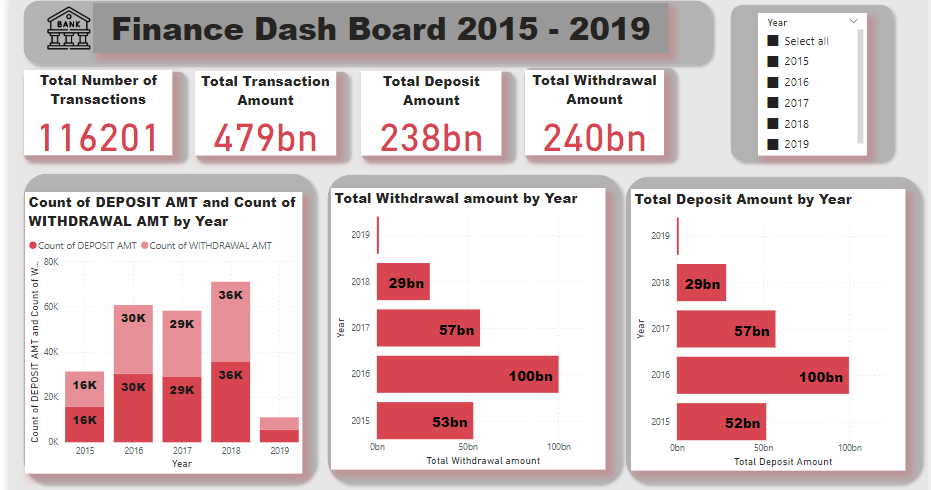

The dashboard page shown, as its layout file describes it:
{"tool":"powerbi","page":{"name":"Page 1","canvas":[1280,720],"ordinal":0},"visuals":[{"type":"shape","box":[996.2,6,244.8,236.4],"z":0},{"type":"shape","box":[9.6,0,978.6,107.1],"z":1000},{"type":"shape","box":[9.6,98.8,244.3,142.7],"z":2000},{"type":"shape","box":[481.8,98.8,230.6,142.7],"z":3000},{"type":"shape","box":[708.2,93.3,229.2,148.2],"z":4000},{"type":"shape","box":[9.6,241.6,425.5,450.2],"z":5000},{"type":"textbox","box":[115.3,12.4,802.9,70],"z":6000},{"type":"image","box":[31.6,12.4,100.2,70],"z":7000},{"type":"card","title":"Total Number of Transactions","fields":{"Values":["New Measurements.Total Number of Transactions"]},"box":[19.3,106.1,207.4,119.4],"z":8000},{"type":"card","title":"Total Withdrawal Amount","fields":{"Values":["New Measurements.Total Withdrawal amount"]},"box":[718.8,106.1,194.2,119.4],"z":9000},{"type":"card","title":"Total Deposit Amount","fields":{"Values":["New Measurements.Total Deposit Amount"]},"box":[490,107.1,196.3,118],"z":10000},{"type":"slicer","fields":{"Values":["Sheet1.DATE.Variation.Date Hierarchy.Year"]},"box":[1043.2,26.5,152,199],"z":11000},{"type":"columnChart","fields":{"Category":["Sheet1.DATE.Variation.Date Hierarchy.Year"],"Y":["CountNonNull(Sheet1.DEPOSIT AMT)","CountNonNull(Sheet1.WITHDRAWAL AMT)"]},"box":[20.6,275.9,387,392.5],"z":12000},{"type":"shape","box":[249.8,98.8,232,142.7],"z":13000},{"type":"card","title":"Total Transaction Amount","fields":{"Values":["Sum(Sheet1.total tans amt)"]},"box":[258.1,107.3,196.6,118.2],"z":14000},{"type":"shape","box":[433.7,242.9,428.2,448.8],"z":15000},{"type":"shape","box":[849.6,245.7,431,446.1],"z":16000},{"type":"clusteredBarChart","fields":{"Y":["New Measurements.Total Withdrawal amount"],"Category":["Sheet1.DATE.Variation.Date Hierarchy.Year"]},"box":[447.4,270.4,382.9,392.5],"z":17000},{"type":"clusteredBarChart","fields":{"Y":["New Measurements.Total Deposit Amount"],"Category":["Sheet1.DATE.Variation.Date Hierarchy.Year"]},"box":[866.1,271.8,382.9,392.5],"z":18000}]}

Visuals, with their boxes on the page's 1280x720 design canvas (x1, y1, x2, y2). These are canvas units, not pixel positions in the 931x490 screenshot, which may show the page scaled, cropped or inside an application window:
shape: {"x1": 996, "y1": 6, "x2": 1241, "y2": 242}
shape: {"x1": 10, "y1": 0, "x2": 988, "y2": 107}
shape: {"x1": 10, "y1": 99, "x2": 254, "y2": 242}
shape: {"x1": 482, "y1": 99, "x2": 712, "y2": 242}
shape: {"x1": 708, "y1": 93, "x2": 937, "y2": 242}
shape: {"x1": 10, "y1": 242, "x2": 435, "y2": 692}
textbox: {"x1": 115, "y1": 12, "x2": 918, "y2": 82}
image: {"x1": 32, "y1": 12, "x2": 132, "y2": 82}
"Total Number of Transactions" card: {"x1": 19, "y1": 106, "x2": 227, "y2": 226}
"Total Withdrawal Amount" card: {"x1": 719, "y1": 106, "x2": 913, "y2": 226}
"Total Deposit Amount" card: {"x1": 490, "y1": 107, "x2": 686, "y2": 225}
slicer - Sheet1.DATE.Variation.Date Hierarchy.Year: {"x1": 1043, "y1": 26, "x2": 1195, "y2": 226}
columnChart - Sheet1.DATE.Variation.Date Hierarchy.Year x CountNonNull(Sheet1.DEPOSIT AMT): {"x1": 21, "y1": 276, "x2": 408, "y2": 668}
shape: {"x1": 250, "y1": 99, "x2": 482, "y2": 242}
"Total Transaction Amount" card: {"x1": 258, "y1": 107, "x2": 455, "y2": 226}
shape: {"x1": 434, "y1": 243, "x2": 862, "y2": 692}
shape: {"x1": 850, "y1": 246, "x2": 1281, "y2": 692}
clusteredBarChart - New Measurements.Total Withdrawal amount x Sheet1.DATE.Variation.Date Hierarchy.Year: {"x1": 447, "y1": 270, "x2": 830, "y2": 663}
clusteredBarChart - New Measurements.Total Deposit Amount x Sheet1.DATE.Variation.Date Hierarchy.Year: {"x1": 866, "y1": 272, "x2": 1249, "y2": 664}
